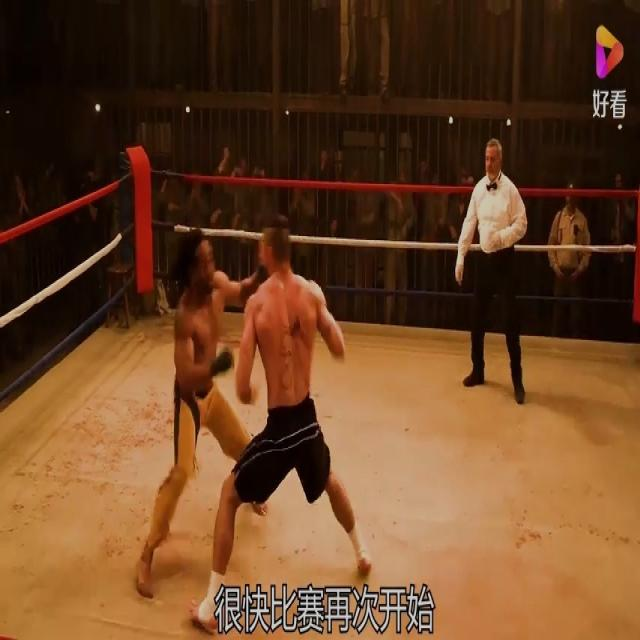fight: (139, 222, 369, 634)
non-fight: (456, 135, 532, 405)
